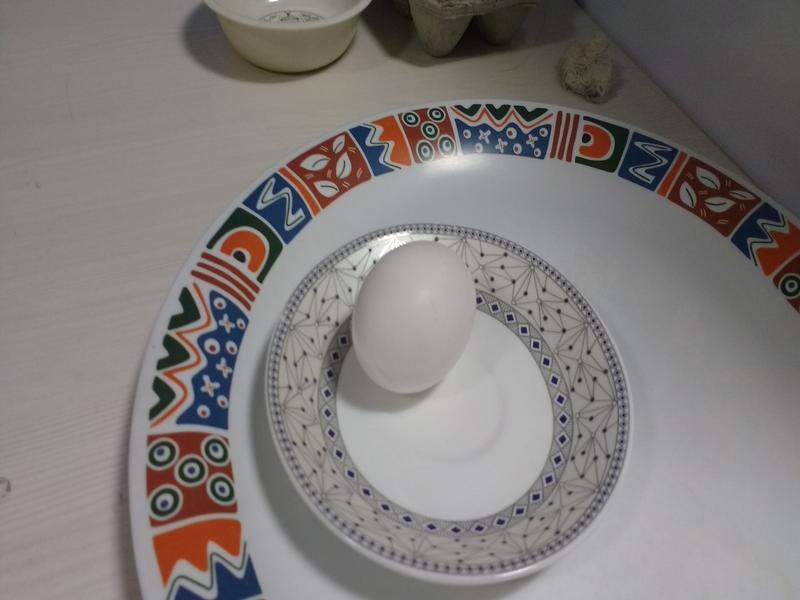egg: (354, 234, 483, 398)
